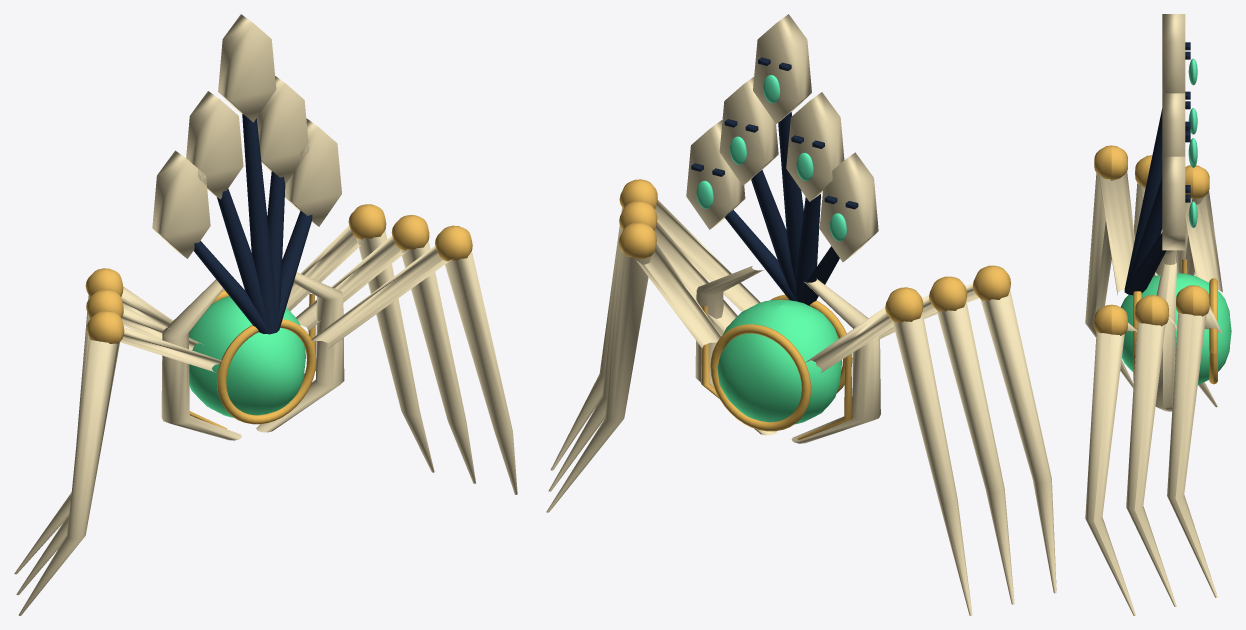
Rendered from boss_4.glb.
3 views of the same model, side by side, from view 1: azimuth 30°, elevation 25°; view 2: azimuth 150°, elevation 25°; view 3: azimuth 270°, elevation 25° (orthographic). The views are drawn at different scales.
Parts seen in each view (by area): view 1: WatcherLimb (×6), Mask (×5), EyeStalk (×5), GlassCore, OpenRib (×2), Knee (×6), GiltOrbRim; view 2: WatcherLimb (×6), Mask (×5), GlassCore, EyeStalk (×5), Knee (×6), OpenRib (×2), GiltOrbRim, GiltRib; view 3: WatcherLimb (×6), Mask (×3), Knee (×6), EyeStalk (×3), GlassCore, OpenRib (×2), GiltOrbRim (×2).
Part boxes in pixels (x1,y1,x2,y2): WatcherLimb (×6): (14,225,517,615); Mask (×5): (152,14,341,258); EyeStalk (×5): (193,113,312,334); GlassCore: (189,296,305,417); OpenRib (×2): (161,272,344,440); Knee (×6): (85,204,472,343); GiltOrbRim: (217,319,316,424); WatcherLimb (×6): (546,200,1056,615); Mask (×5): (686,14,878,262); GlassCore: (717,299,841,424); EyeStalk (×5): (724,112,839,305); Knee (×6): (618,179,1010,322); OpenRib (×2): (695,266,880,443); GiltOrbRim: (710,324,811,431); GiltRib: (797,354,852,439); WatcherLimb (×6): (1085,170,1222,615); Mask (×3): (1162,14,1185,250); Knee (×6): (1094,145,1209,335); EyeStalk (×3): (1124,108,1166,295); GlassCore: (1121,273,1231,384); OpenRib (×2): (1153,250,1176,411); GiltOrbRim (×2): (1133,278,1217,384).
Bounding box in the file's own units: 3.01 × 3 × 0.8146.
